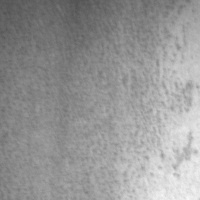pitted_surface: (0, 1, 199, 198)
